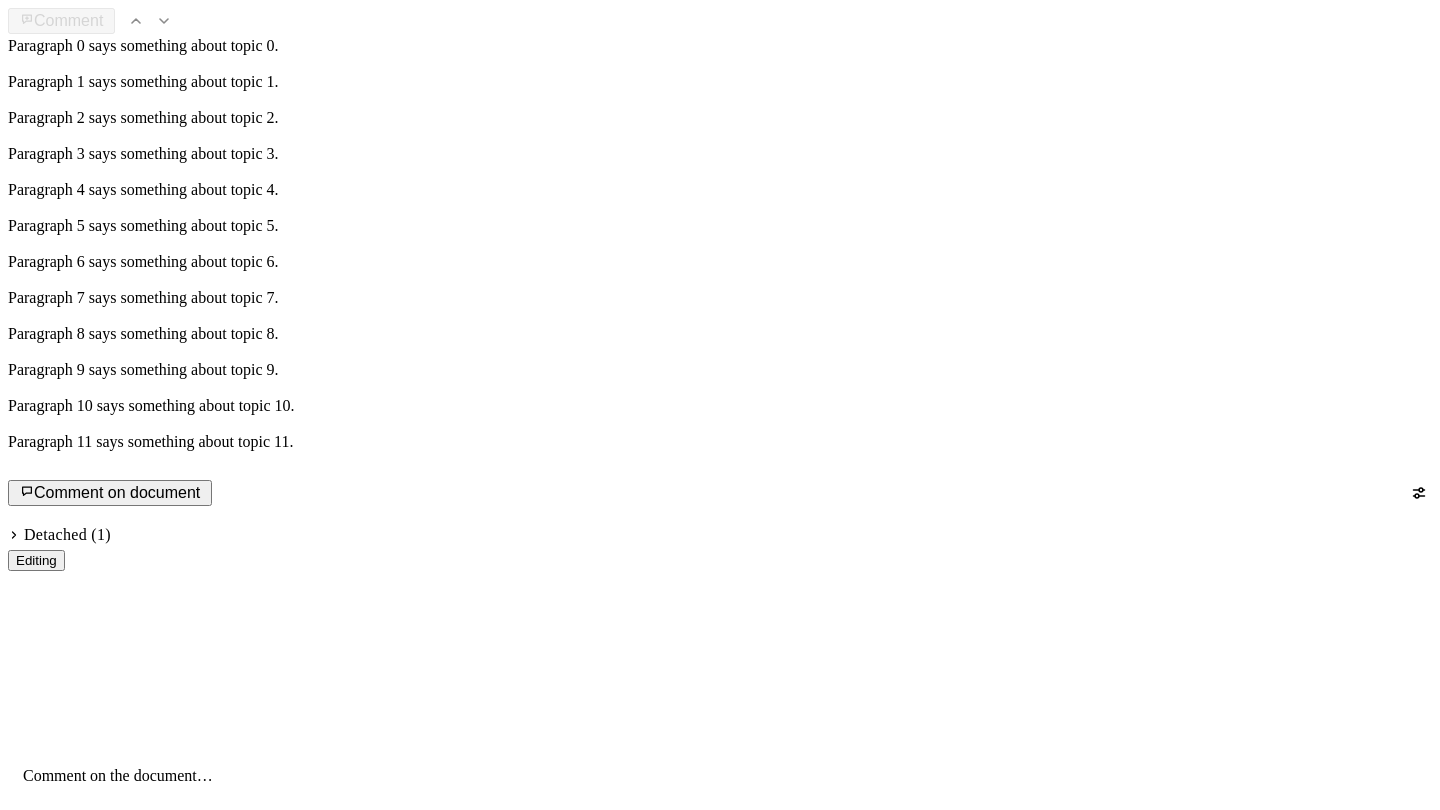
thread actions (R2.3) › Detached threads list in the rail header with their original quote, folded until opened (§5.4, row 37)
Later steps or results of the test are not shown.
Click the button with class "mdr-fold-button" at (59,535), box [8,524,111,546]
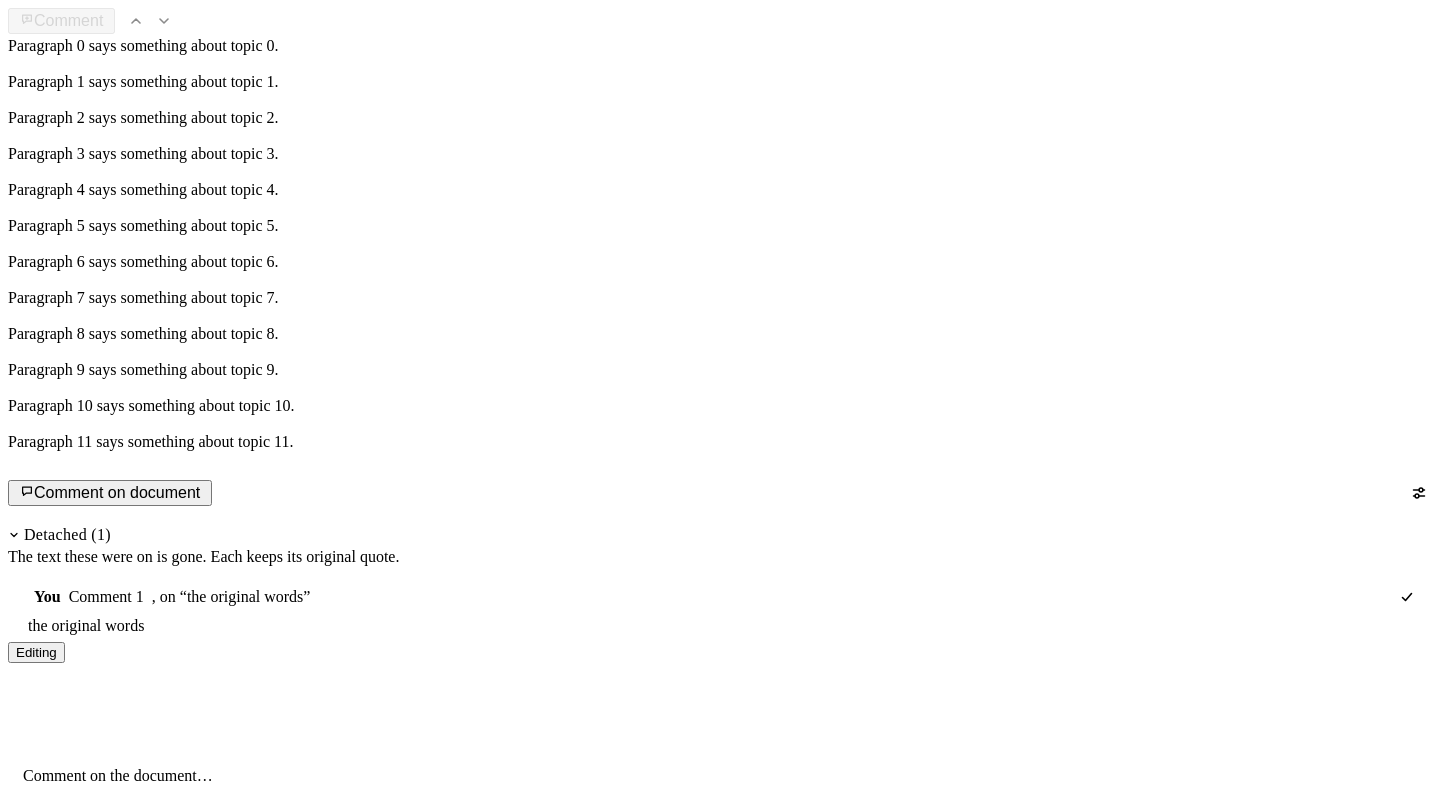
Now the text with class "mdr-card-quote" reads "the original words", box [28,617,144,634]
